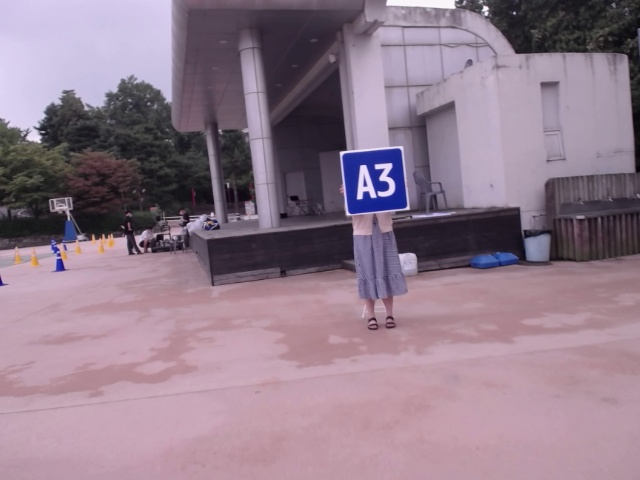delivery_a3: (341, 147, 409, 215)
